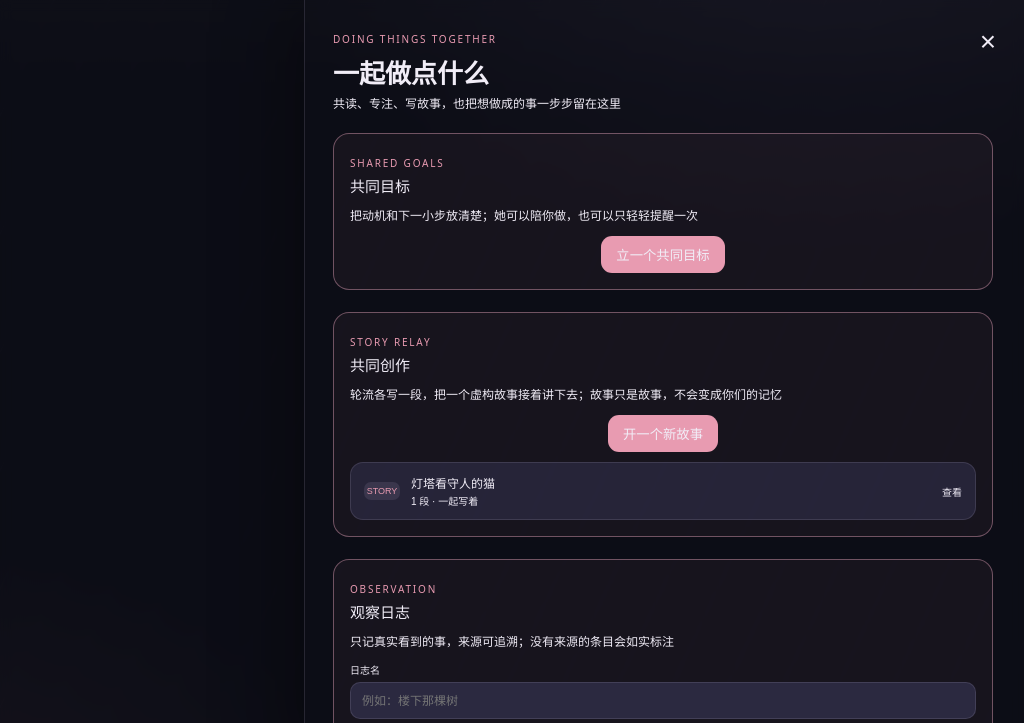
ActivityPanel › asks her to continue the story and keeps fiction labeled
Click the button "STORY 灯塔看守人的猫 1 段 · 一起写着 查看" at (382, 491), box [350,462,976,520]
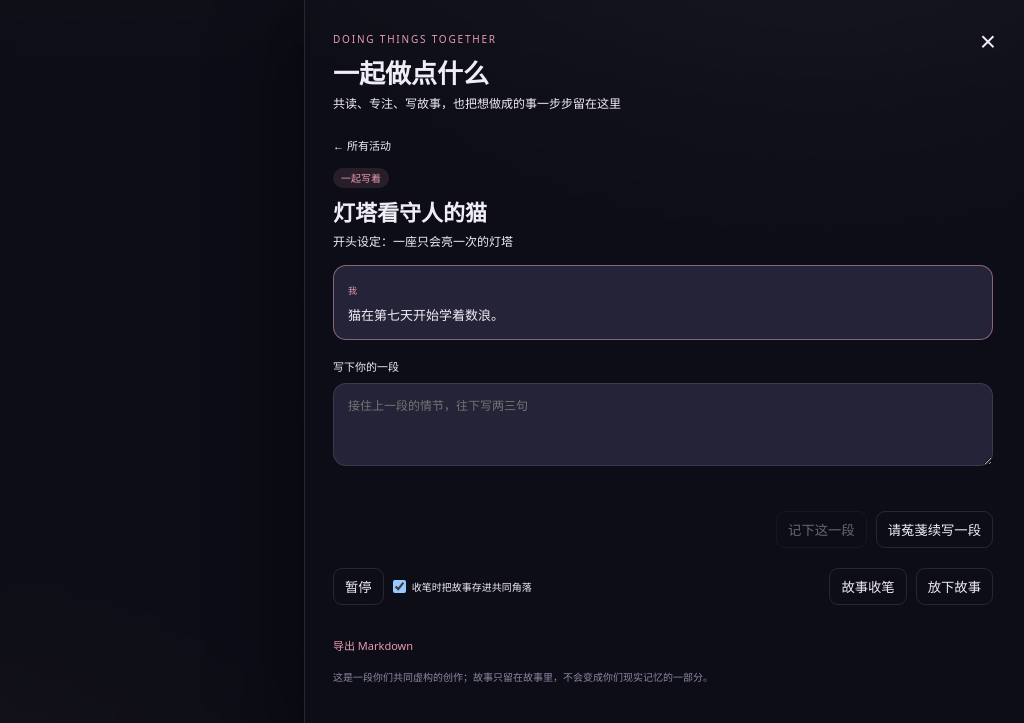
Expected: the text "猫在第七天开始学着数浪" is shown, [348,306,504,324]
Click the 4th button at (934, 530), box [876,511,993,548]
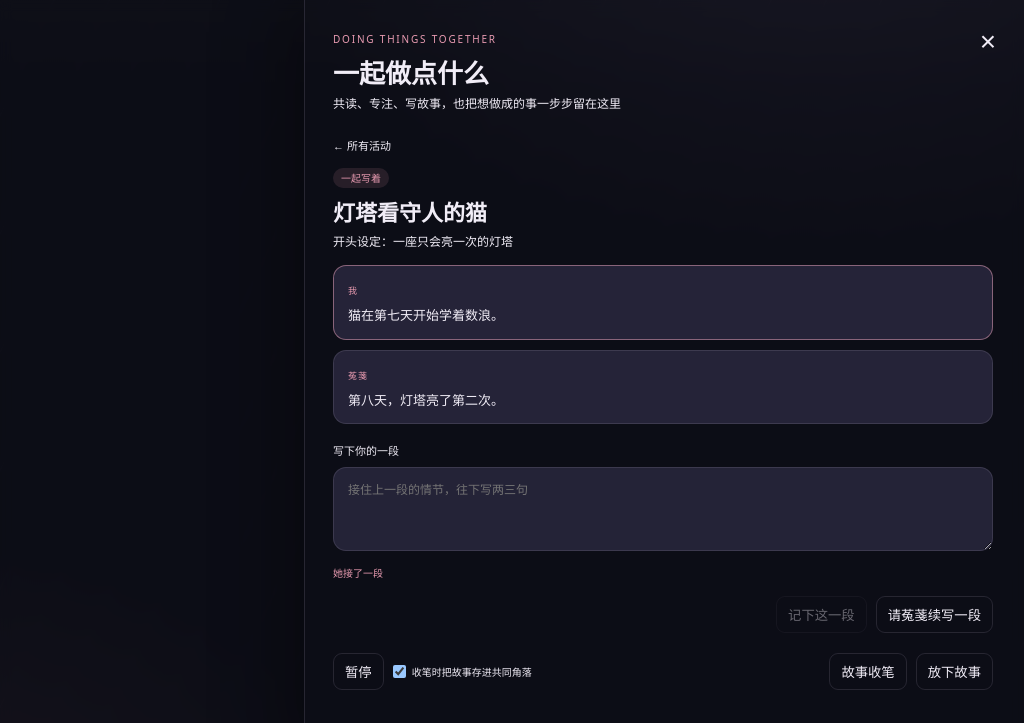
Expected: the text "第八天，灯塔亮了第二次" is shown, [348,391,504,409]
Expected: the text "她接了一段" is shown, [333,565,383,580]
